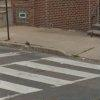Crosswalk: (2, 55, 99, 100)
